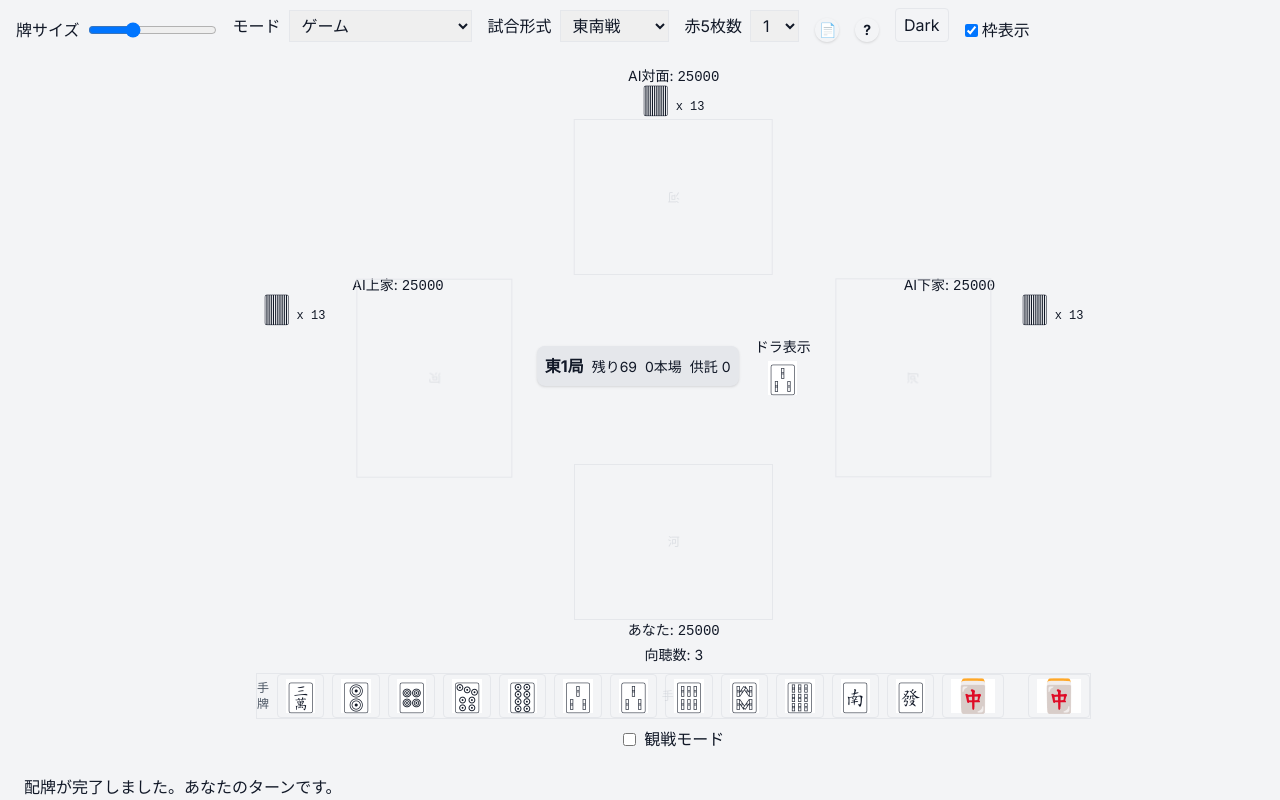
it: GameController load board › loads sample board data
Click the button named "メニュー": (827, 30) [815,18,839,42]
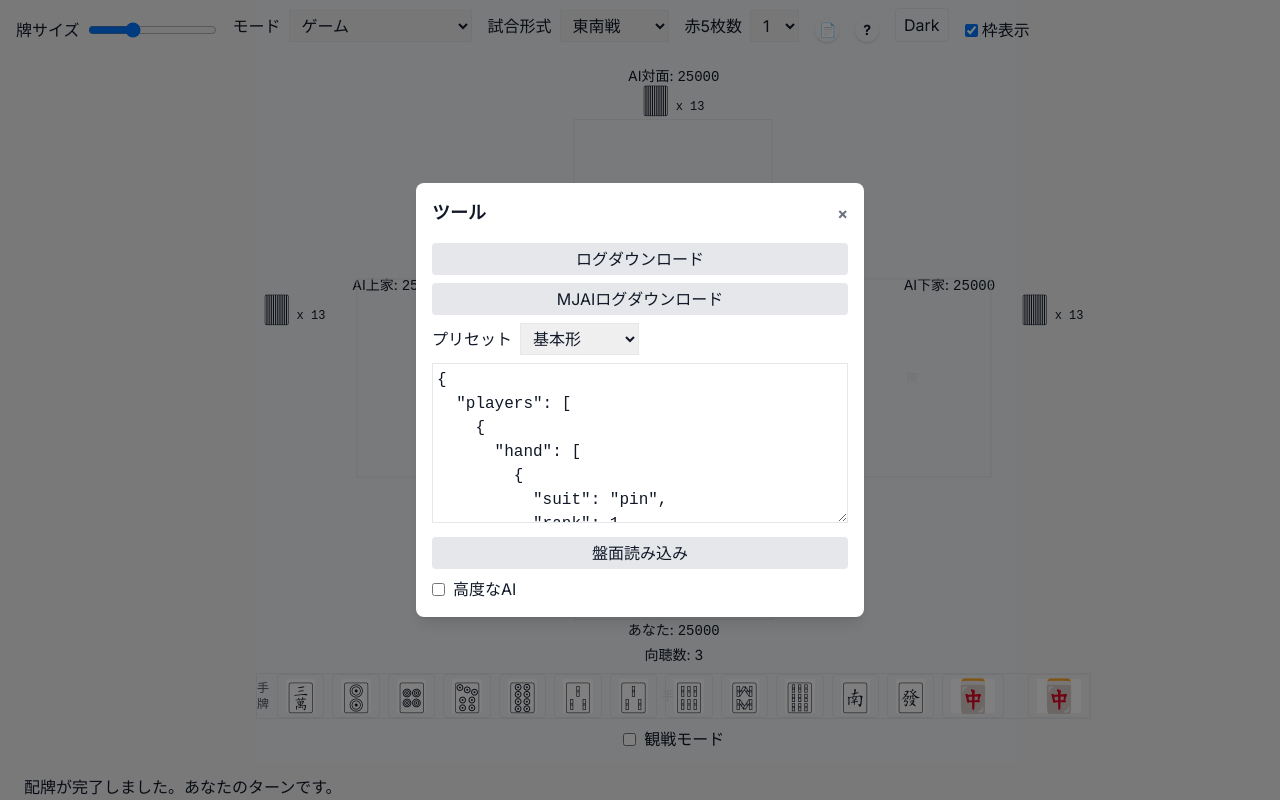
Click the button "盤面読み込み": (640, 553) [432,537,848,569]
(page scrolled)
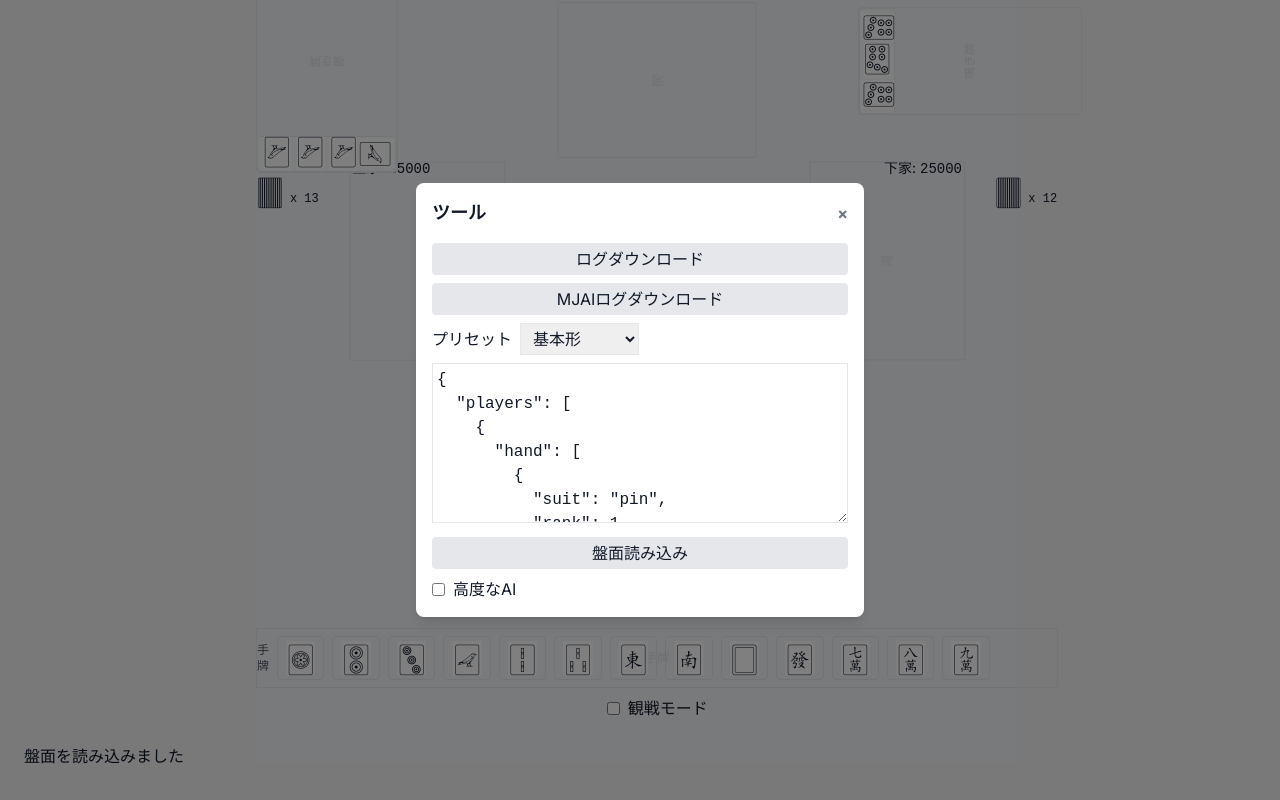
Expected: the element showing "🀇 🀈 🀉" is shown, [707,348,814,384]
Expected: the text "盤面を読み込みました" is shown, [24,746,184,766]
